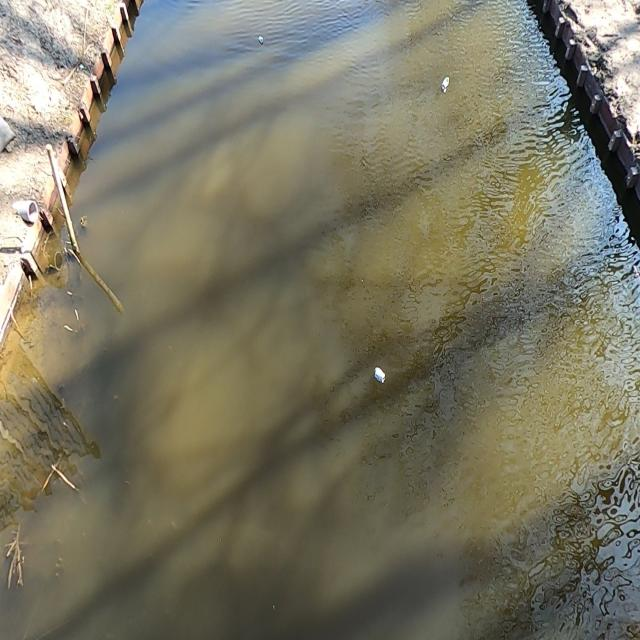Non plastique: (373, 364, 388, 389), (440, 75, 452, 94)
